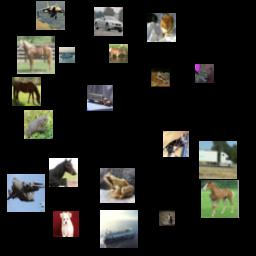airplane: (7, 174, 45, 212), (36, 1, 65, 30)
automobile: (94, 7, 123, 36)
cat: (147, 13, 176, 42), (163, 131, 189, 157), (159, 210, 175, 226)
deer: (109, 44, 128, 63)
dog: (53, 211, 79, 237)
frog: (100, 168, 135, 203), (24, 110, 53, 139), (195, 64, 214, 83), (151, 68, 170, 87)
ship: (100, 210, 138, 248), (59, 47, 75, 63)
truck: (199, 141, 237, 179), (87, 85, 113, 111)
